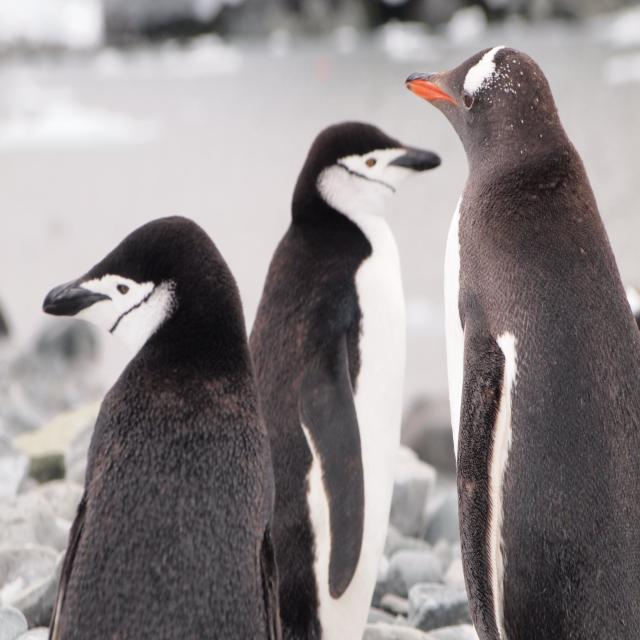Penguins: (410, 24, 638, 640), (39, 171, 276, 640), (251, 106, 440, 640)
